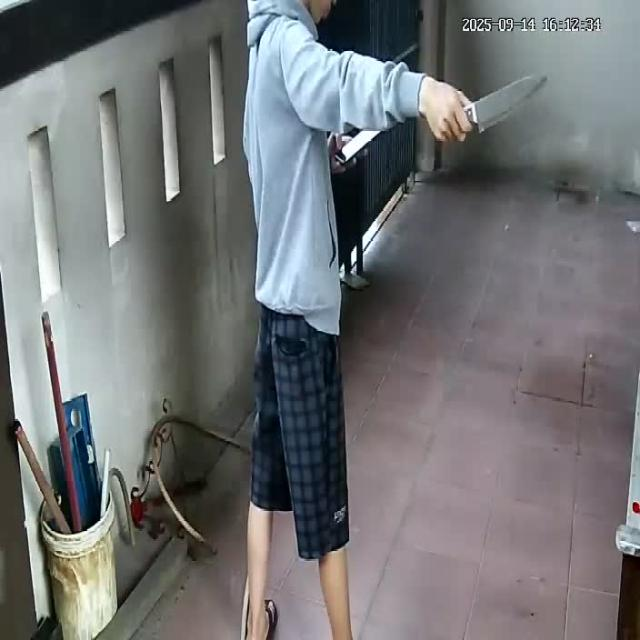senjata_tajam: (464, 71, 552, 132)
